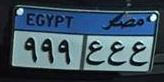9: (20, 35, 38, 65), (57, 36, 73, 67), (40, 37, 55, 67)
ain: (105, 40, 128, 70), (128, 39, 148, 70), (83, 40, 105, 68)
